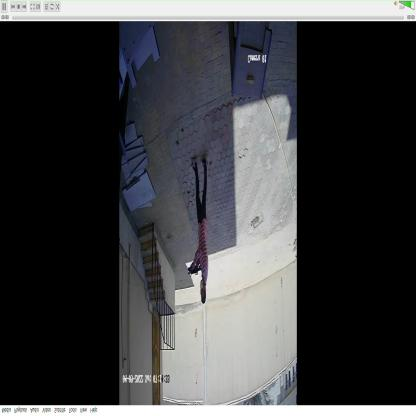handgun: (185, 256, 206, 281)
